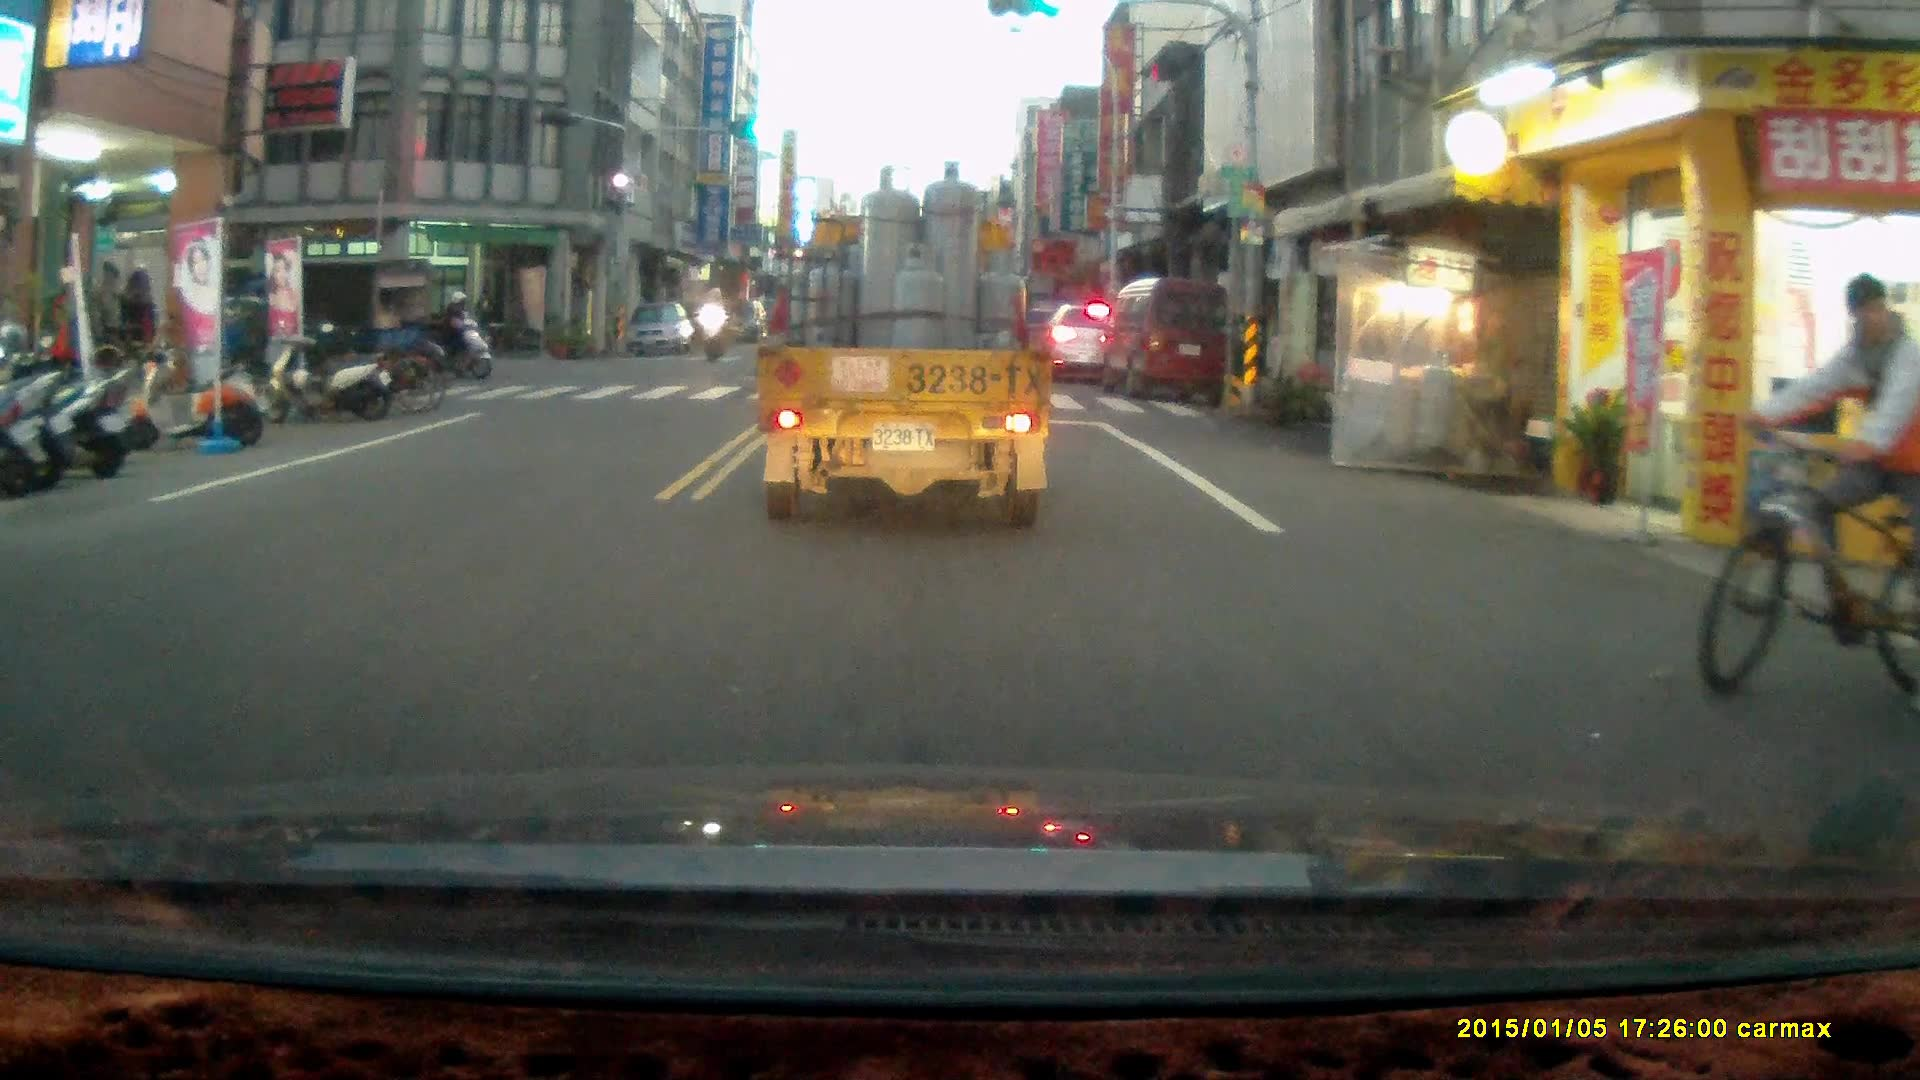pedestrian: (121, 267, 157, 380), (473, 283, 496, 355)
rider: (1703, 273, 1916, 707), (425, 285, 495, 380), (695, 277, 738, 358)
vehicle: (753, 160, 1049, 525), (194, 247, 443, 383), (1097, 278, 1232, 403), (1045, 304, 1124, 382), (624, 302, 694, 359)
